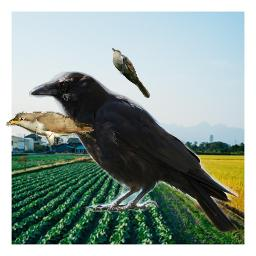Crow: (29, 71, 239, 233)
Cuckoo: (6, 111, 96, 153), (112, 48, 150, 98)
